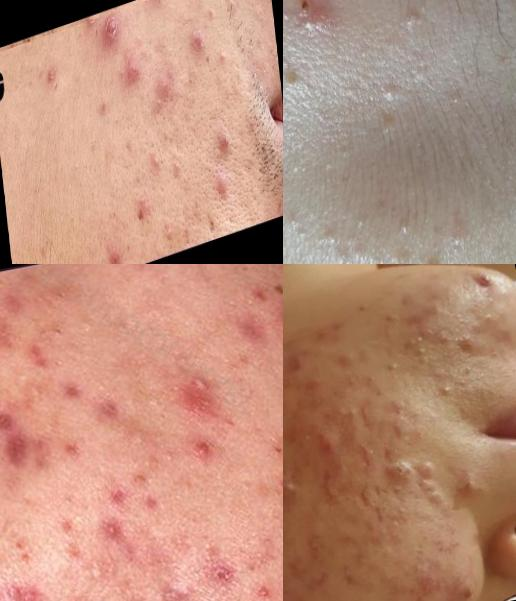acne_scars: (159, 351, 243, 441), (1, 567, 63, 601)
blackhead: (49, 313, 79, 341), (202, 145, 219, 182), (207, 211, 223, 238)
papular: (1, 393, 54, 484), (289, 415, 342, 471), (284, 1, 344, 47), (380, 395, 426, 446), (376, 449, 417, 493), (460, 461, 502, 501), (185, 6, 213, 61), (184, 431, 223, 467), (214, 116, 243, 164), (97, 7, 127, 51), (318, 473, 358, 506), (470, 265, 502, 297), (309, 317, 349, 340), (126, 51, 149, 90), (352, 439, 378, 470), (1, 325, 21, 354), (286, 355, 307, 378), (107, 241, 125, 265)
sebo-crystan-conglo: (414, 478, 451, 518), (414, 449, 446, 486), (284, 443, 300, 510)
whitehead: (408, 543, 449, 581), (395, 1, 434, 37), (373, 74, 411, 109), (440, 214, 472, 255), (437, 82, 472, 115), (319, 220, 349, 256), (330, 400, 366, 430), (348, 206, 378, 240), (345, 240, 385, 265), (284, 60, 311, 97), (373, 113, 405, 144), (146, 136, 168, 178), (383, 352, 410, 386), (390, 215, 419, 246), (410, 342, 438, 374), (415, 247, 461, 265), (385, 242, 421, 265), (167, 136, 185, 179), (212, 33, 232, 70), (438, 370, 460, 399), (476, 307, 505, 327), (406, 328, 430, 349), (152, 89, 170, 116), (388, 513, 405, 535)
